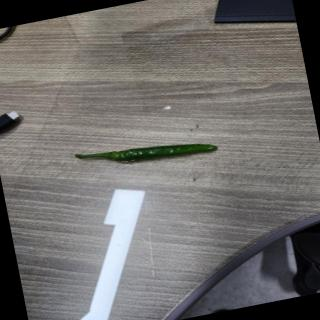Cabai Hijau: (72, 113, 249, 197)
